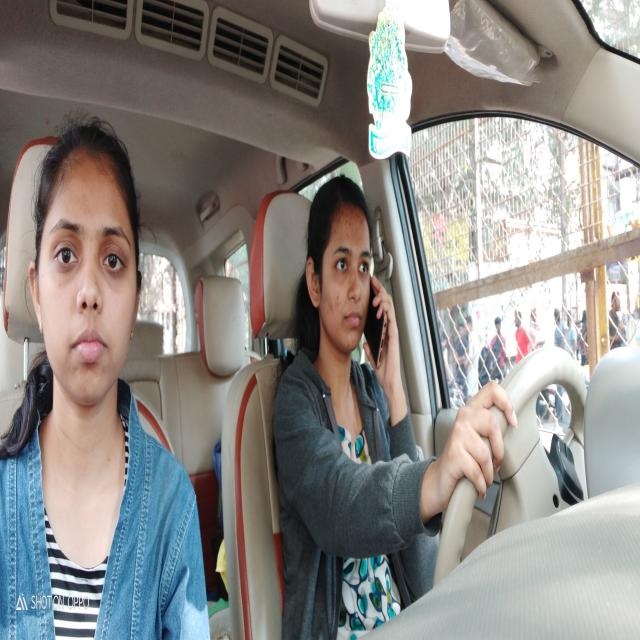mobile: (362, 284, 388, 368)
person: (24, 103, 149, 426), (305, 150, 393, 387)
